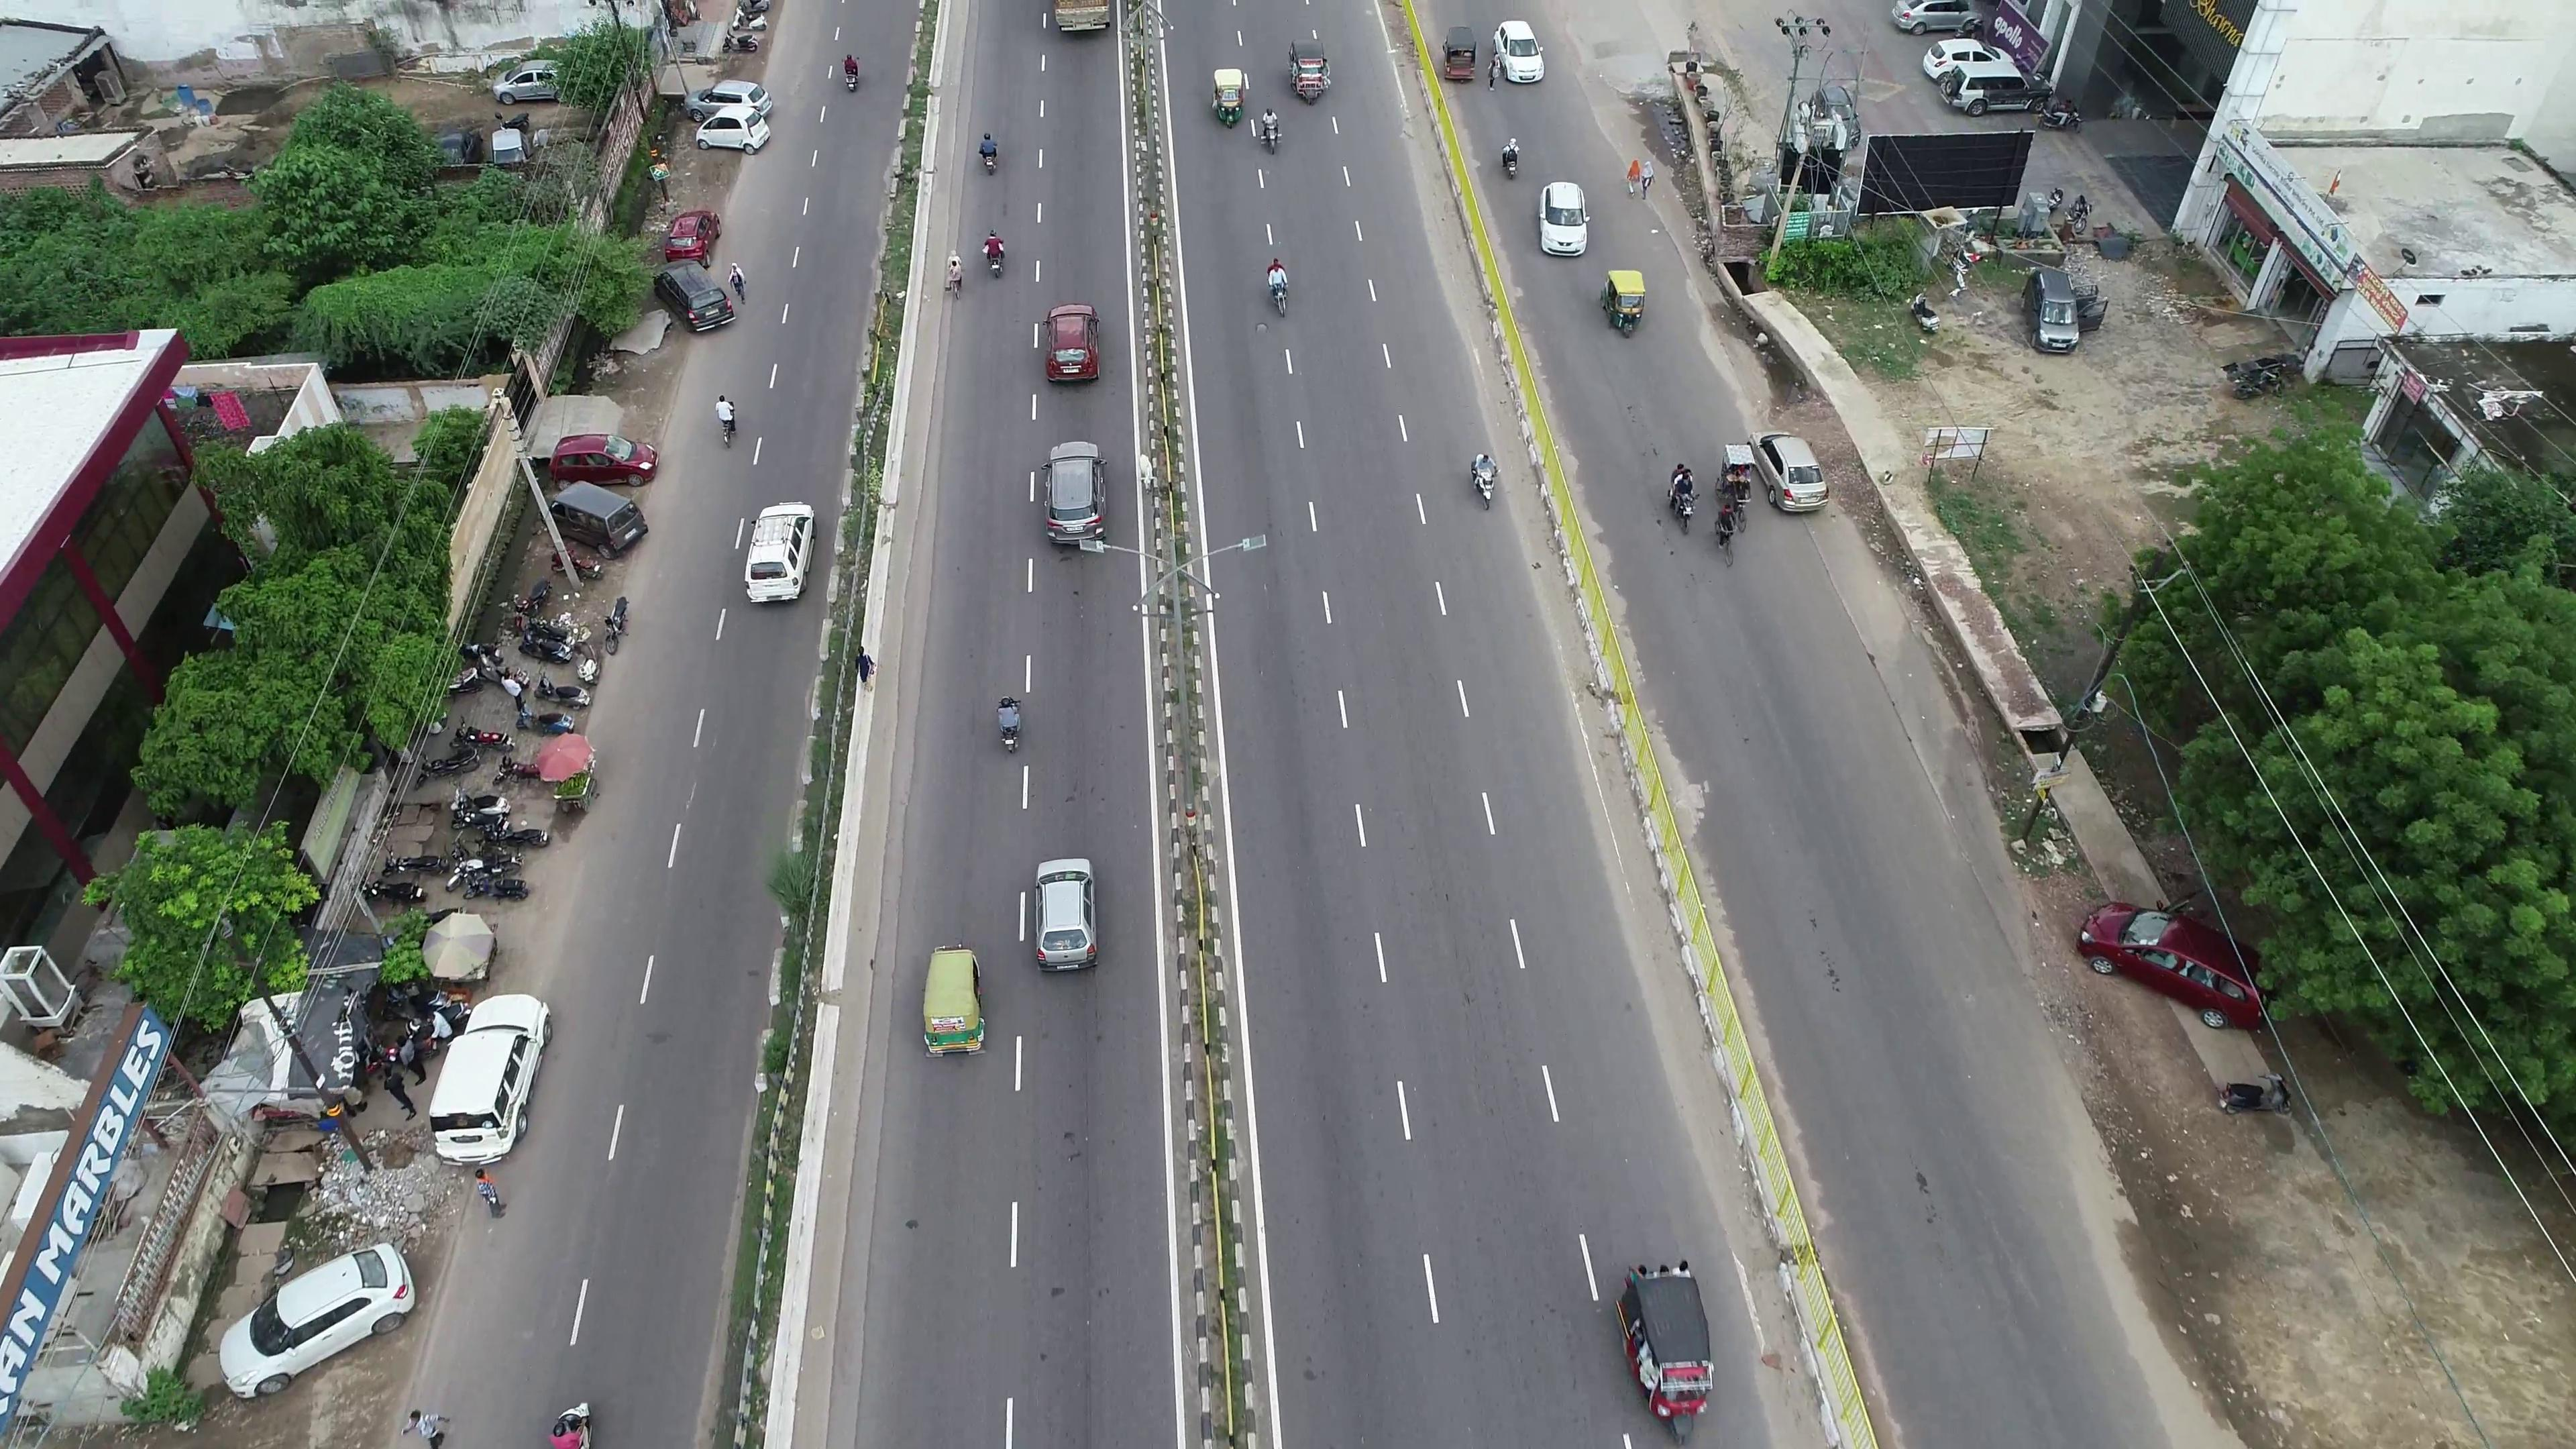Potholes: (1238, 304, 1277, 354)
